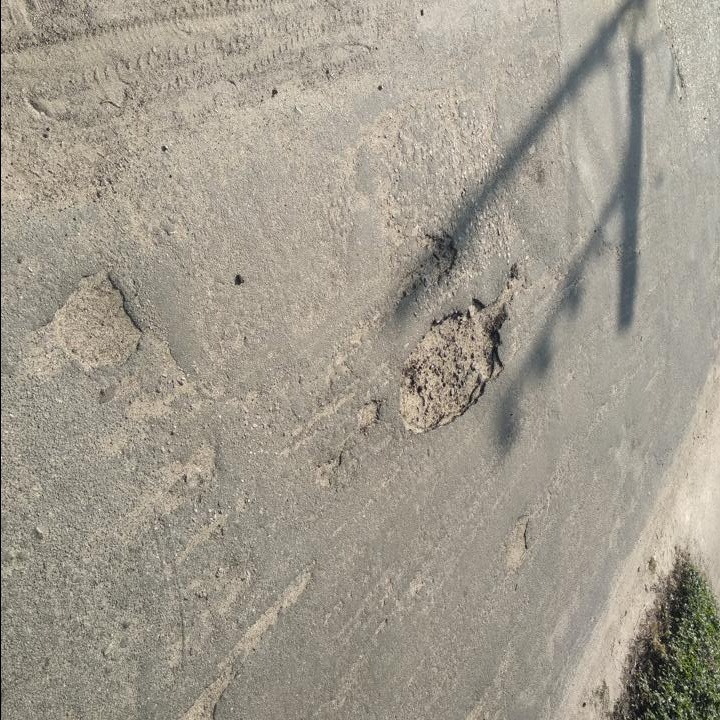pothole: (394, 268, 523, 441), (25, 264, 148, 383), (393, 231, 461, 305), (177, 670, 240, 719), (501, 512, 534, 572)
